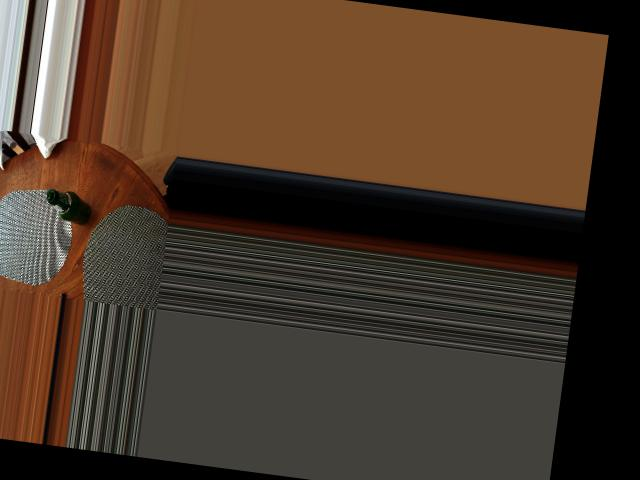beer: (44, 188, 94, 225)
